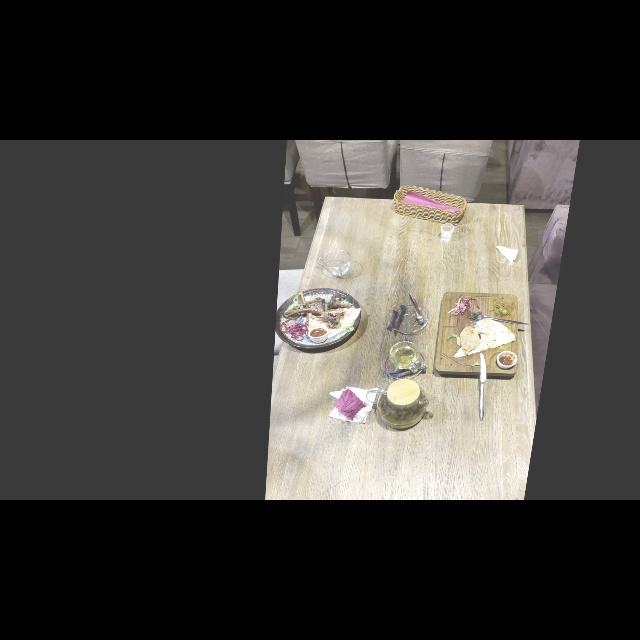графин с чаем: (364, 378, 440, 430)
закуска(пустая тарелка): (432, 292, 528, 376)
мясо(пустая тарелка): (273, 287, 363, 350)
